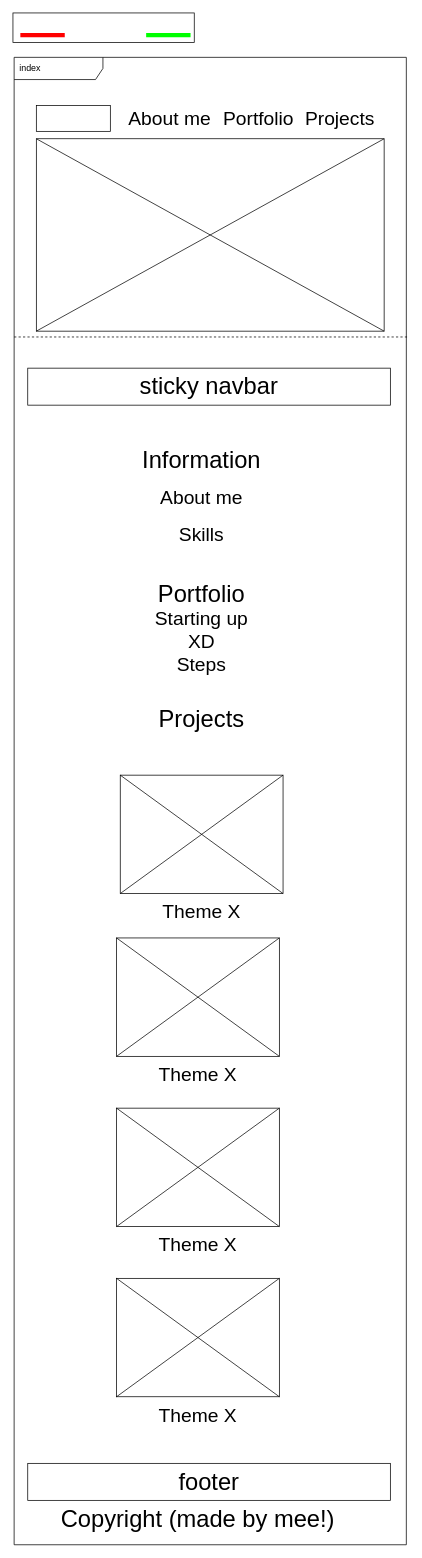
The diagram is 422 pixels wide and 1558 high, and some of its shapes have lost their labels. Here are the shapes that lost their labels. From the top down, the box of each, then its label:
(12, 12, 194, 43): Grid Flex
(36, 105, 110, 131): button
